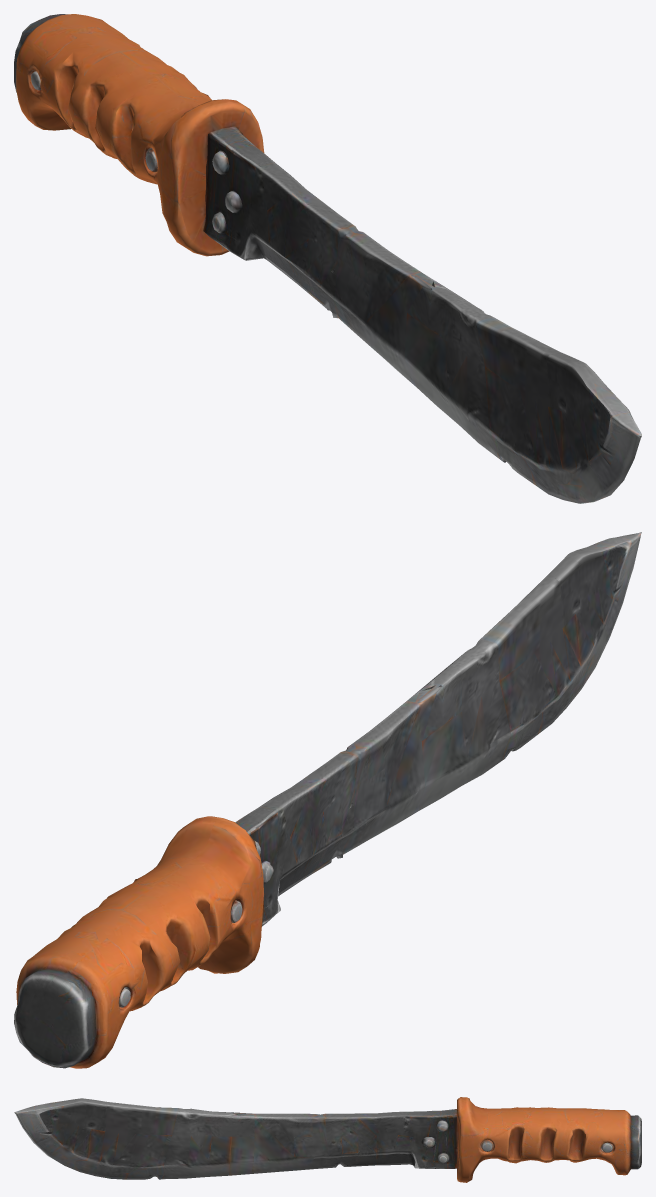
Rendered from machete.glb.
The picture shows the model from 3 angles, top to bottom: view 1: azimuth 30°, elevation 25°; view 2: azimuth 150°, elevation 25°; view 3: azimuth 270°, elevation 25°; orthographic projection. The views are drawn at different scales.
Parts seen in each view (by area): view 1: w_machete; view 2: w_machete; view 3: w_machete.
Boxes of the visible parts, x1=… form: w_machete: x1=14, y1=14, x2=641, y2=503; w_machete: x1=14, y1=532, x2=641, y2=1068; w_machete: x1=14, y1=1097, x2=641, y2=1182.
Bounding box in the file's own units: 0.0567 × 0.0851 × 0.6.
1 material, 1 textured.
